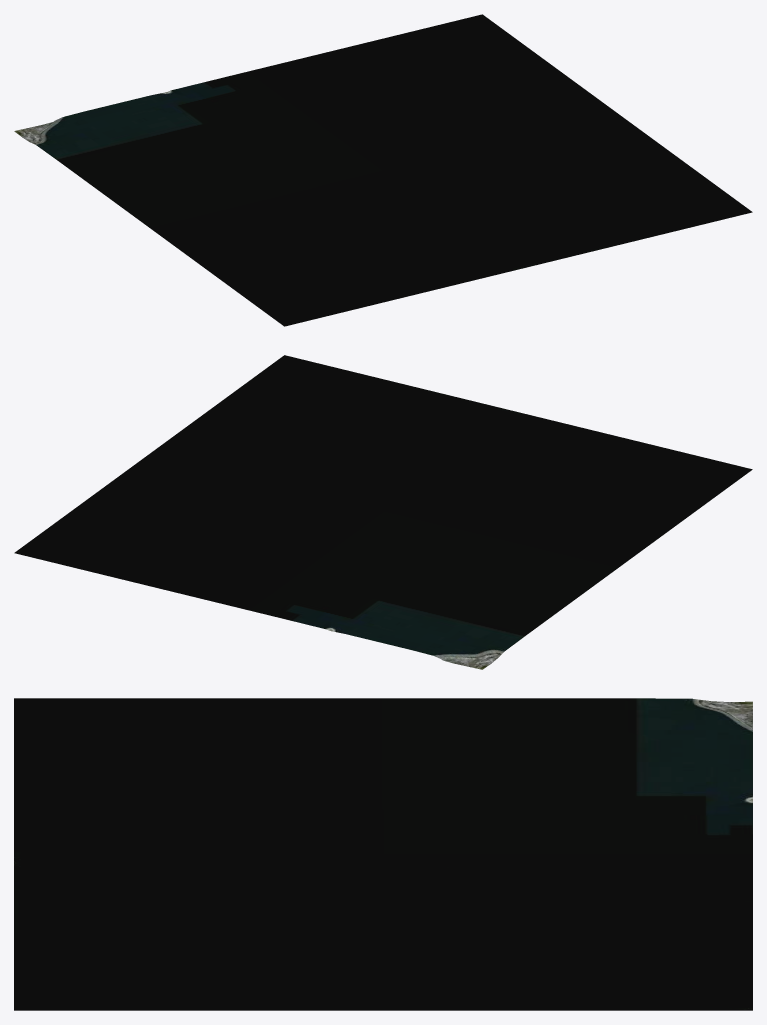
The model's file is map_10_249_421.dae.
3 renders of one model, top to bottom at view 1: azimuth 30°, elevation 25°; view 2: azimuth 150°, elevation 25°; view 3: azimuth 270°, elevation 25°, orthographic. The views are drawn at different scales.
Parts seen in each view (by area): view 1: Ter0; view 2: Ter0; view 3: Ter0.
Boxes of the visible parts, x1,y1,x2,y2 form: Ter0: (14,14,752,326); Ter0: (14,355,752,669); Ter0: (14,698,752,1010).
Bounding box in the file's own units: 2044 × 2044 × 13.05.
Materials: 2 (2 with a texture image).
